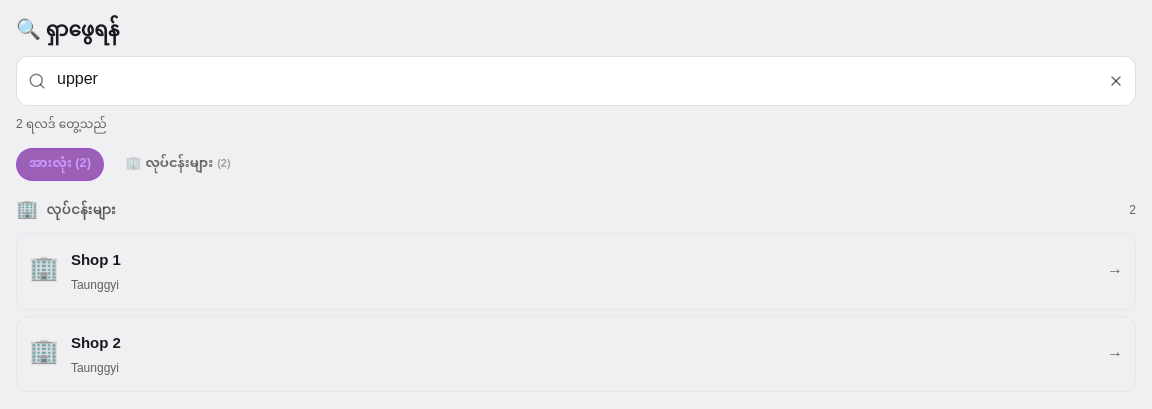
Test: v9.25 slow: failed search keeps previous results + retry › a failed run restores the last good results, shows a retry button, and retry re-runs the search
Expected: the text "2 ရလဒ် တွေ့သည်" is shown, 16,117 -> 106,131
Expected: the text "Shop 1" is shown, 71,251 -> 121,268
Note: Second query — every source fails (slow network).
Replace the text in the field showing "upper" with "house" at x=576, y=81, box 16,56 -> 1136,106
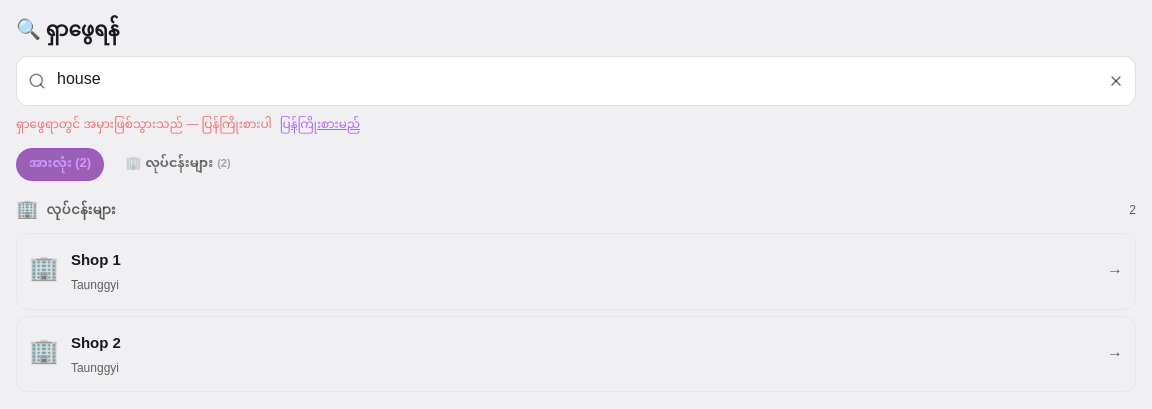
Expected: the text "Shop 1" is shown, 71,251 -> 121,268
Expected: the text "ရှာဖွေရာတွင် အမှားဖြစ်သွားသည် — ပြန်ကြိုးစားပါ" is shown, 16,114 -> 272,136
Click the button "ပြန်ကြိုးစားမည်".
click(320, 125)  # box 280,114 -> 360,136
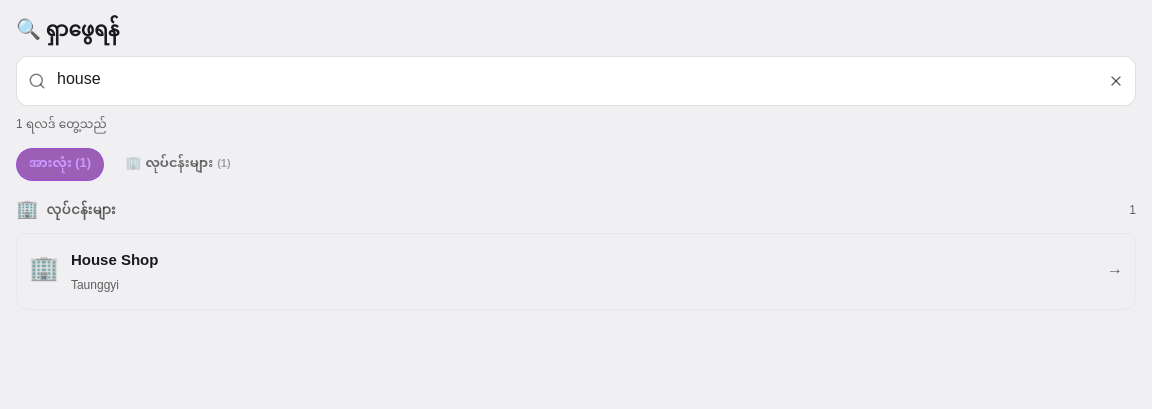
Expected: the text "1 ရလဒ် တွေ့သည်" is shown, 16,117 -> 106,131
Expected: the text "House Shop" is shown, 71,251 -> 158,268
Expected: the button "Shop 1" is gone
